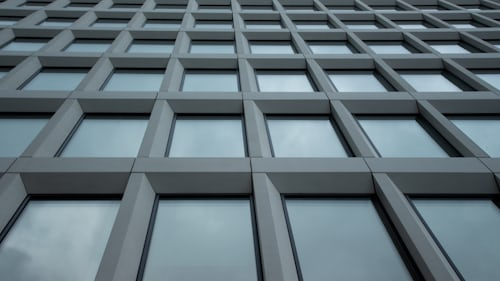glass_panel: (286, 199, 412, 280), (0, 201, 118, 280), (142, 200, 257, 280), (413, 199, 499, 280), (358, 117, 448, 156), (60, 117, 147, 156), (267, 117, 347, 156), (168, 116, 244, 156), (450, 117, 499, 156), (0, 117, 47, 156), (22, 69, 86, 90), (103, 70, 163, 90), (181, 71, 238, 91), (257, 71, 314, 91), (401, 73, 461, 91), (329, 73, 387, 91), (127, 40, 174, 54), (64, 39, 110, 52), (1, 39, 46, 51), (190, 41, 234, 53), (250, 41, 294, 53), (309, 42, 352, 53), (368, 43, 411, 53), (475, 73, 499, 89), (429, 44, 470, 53), (195, 20, 232, 28), (143, 20, 180, 28), (245, 20, 281, 28), (295, 21, 330, 29), (92, 19, 127, 27), (39, 19, 73, 26), (66, 2, 94, 9), (155, 3, 186, 9), (345, 23, 378, 28), (398, 23, 427, 28), (0, 17, 17, 25), (450, 23, 476, 28), (0, 67, 9, 78)
